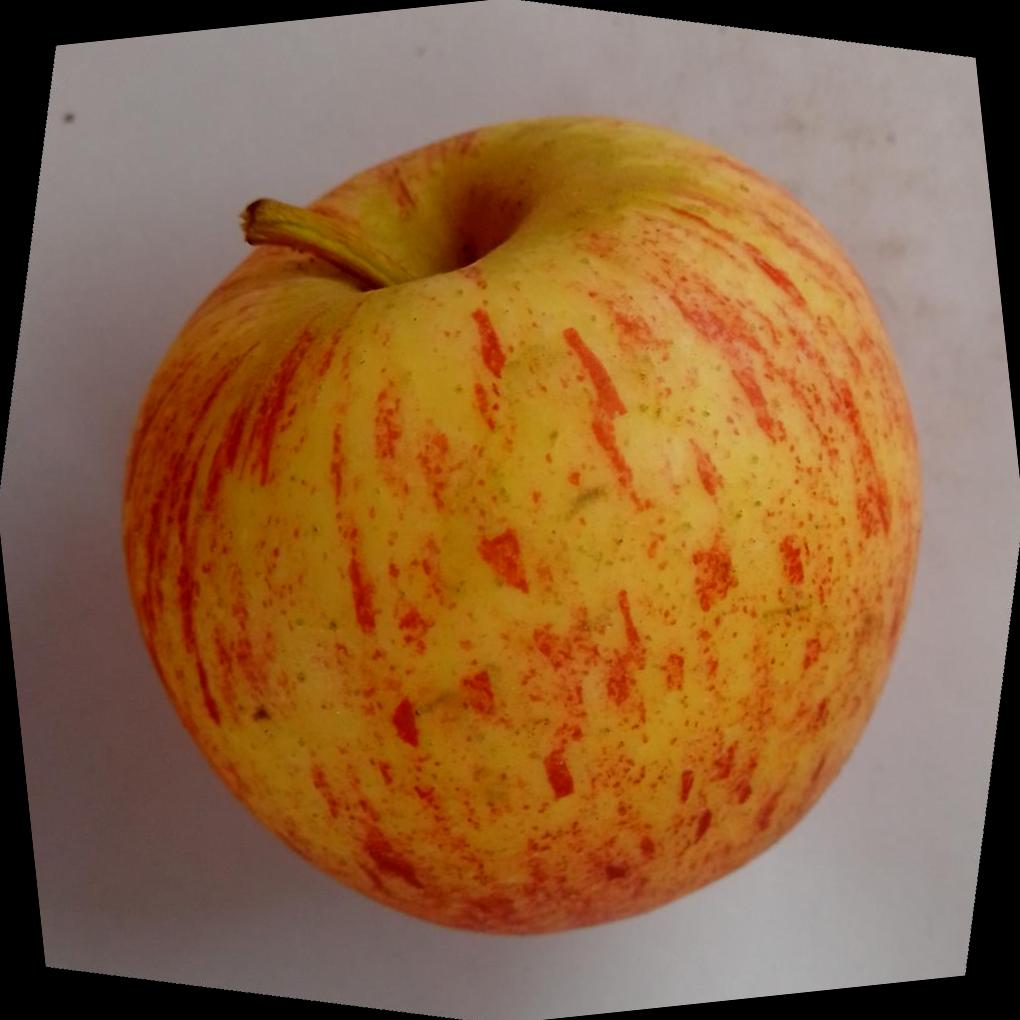FreshGuava: (118, 115, 925, 940)
